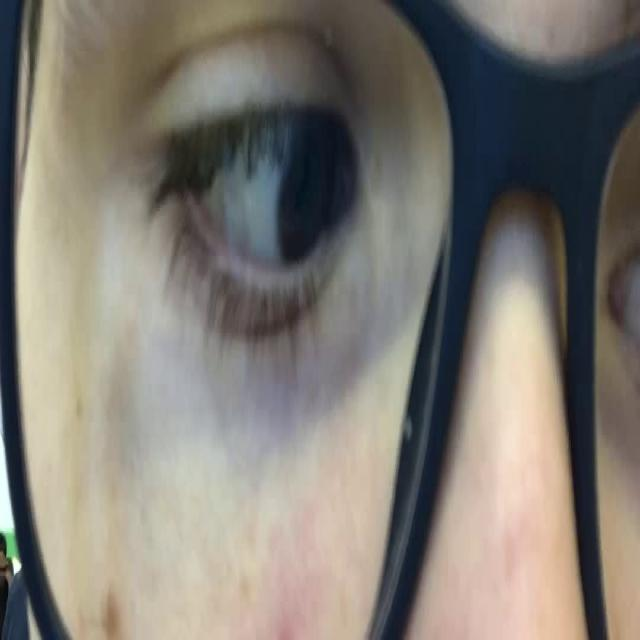eye: (152, 76, 374, 339)
gaze: (275, 138, 329, 264)
